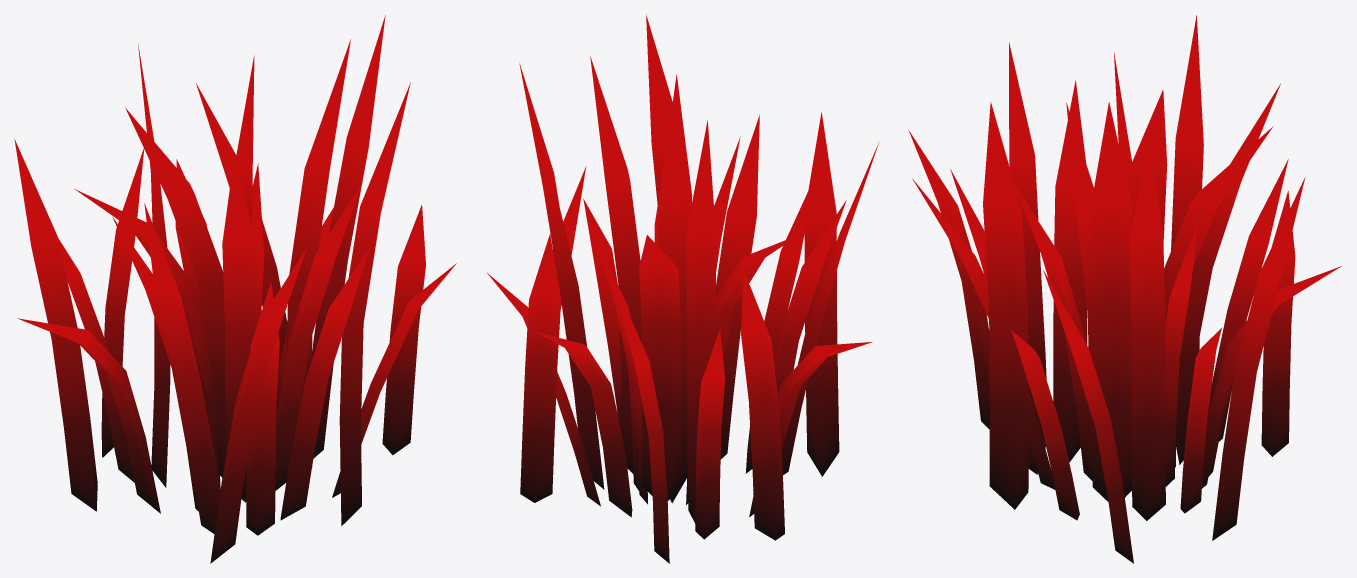
File: Grass.fbx
3 views of the same model, side by side, from view 1: azimuth 30°, elevation 25°; view 2: azimuth 150°, elevation 25°; view 3: azimuth 270°, elevation 25° (orthographic). The views are drawn at different scales.
Visible parts, largest first — view 1: Plane.001; view 2: Plane.001; view 3: Plane.001.
Boxes of the visible parts, x1=… form: Plane.001: x1=14, y1=15, x2=456, y2=563; Plane.001: x1=487, y1=14, x2=878, y2=563; Plane.001: x1=908, y1=15, x2=1341, y2=563.
Bounding box in the file's own units: 175 × 196 × 175.
